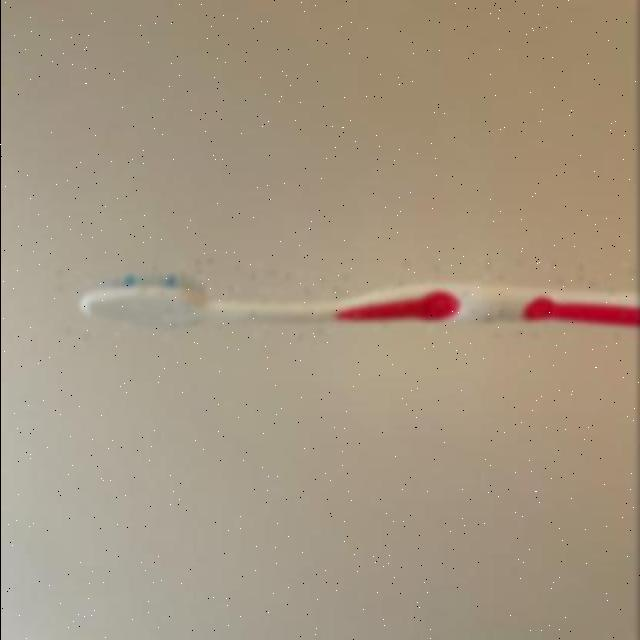toothbrush: (56, 260, 640, 338)
